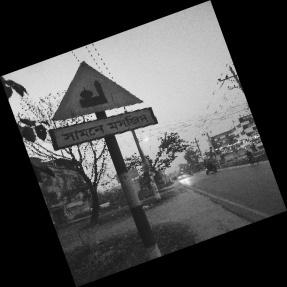Mosque in front: (49, 60, 152, 152)
